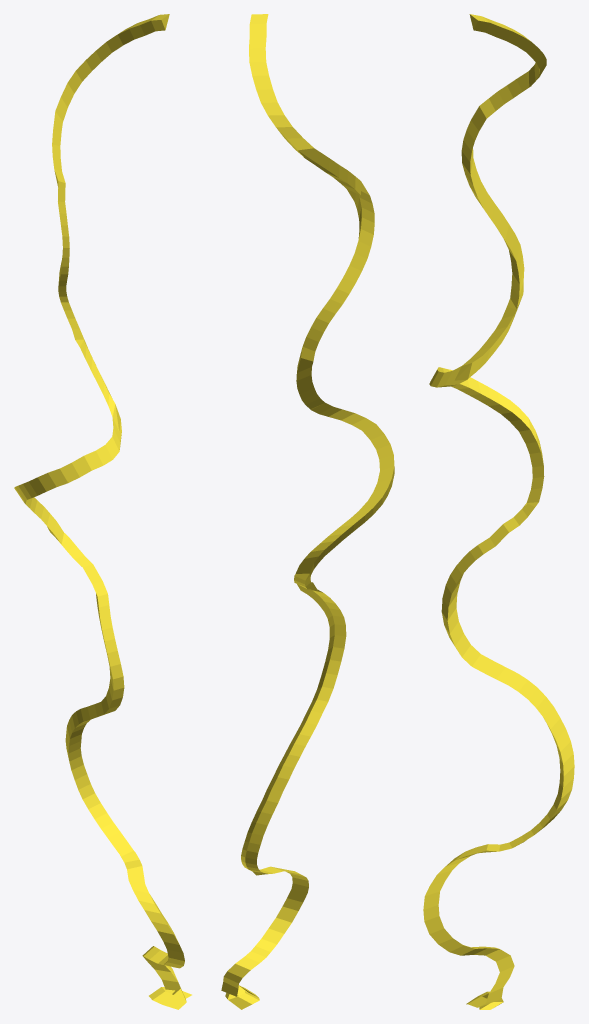
The model's file is string.fbx.
The picture shows the model from 3 angles, left to right: view 1: azimuth 30°, elevation 25°; view 2: azimuth 150°, elevation 25°; view 3: azimuth 270°, elevation 25°; orthographic projection.
Visible parts, largest first — view 1: group_1954238734; view 2: group_1954238734; view 3: group_1954238734.
Part boxes in pixels (bbox=[...]): group_1954238734: bbox=[14, 14, 191, 1009]; group_1954238734: bbox=[221, 14, 394, 1009]; group_1954238734: bbox=[423, 14, 574, 1009].
Bounding box in the file's own units: 87.69 × 503 × 69.97.
